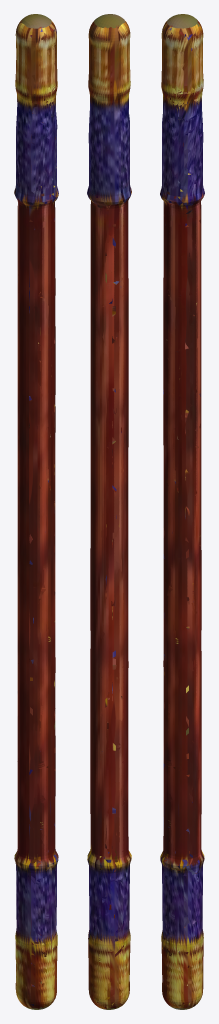
Rendered from bo_source.glb.
3 views of the same model, side by side, from view 1: azimuth 30°, elevation 25°; view 2: azimuth 150°, elevation 25°; view 3: azimuth 330°, elevation 25° (orthographic).
Parts seen in each view (by area): view 1: temp_mesh.ply; view 2: temp_mesh.ply; view 3: temp_mesh.ply.
Part boxes in pixels (x1,y1,x2,y2): temp_mesh.ply: [14, 14, 58, 1009]; temp_mesh.ply: [87, 14, 131, 1009]; temp_mesh.ply: [160, 14, 204, 1009].
Size of the model in its own units: 0.0803 by 1.97 by 0.0803.
1 material, 1 textured.
